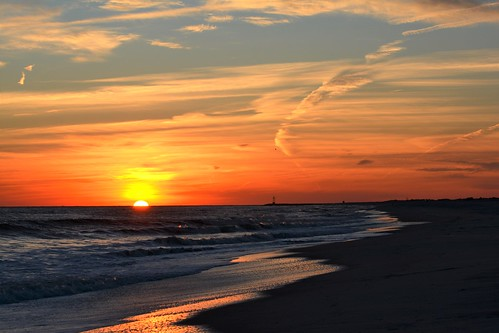beach: (330, 200, 499, 333)
sea: (1, 203, 356, 303)
sky: (2, 1, 499, 203)
sun: (133, 197, 147, 206)
